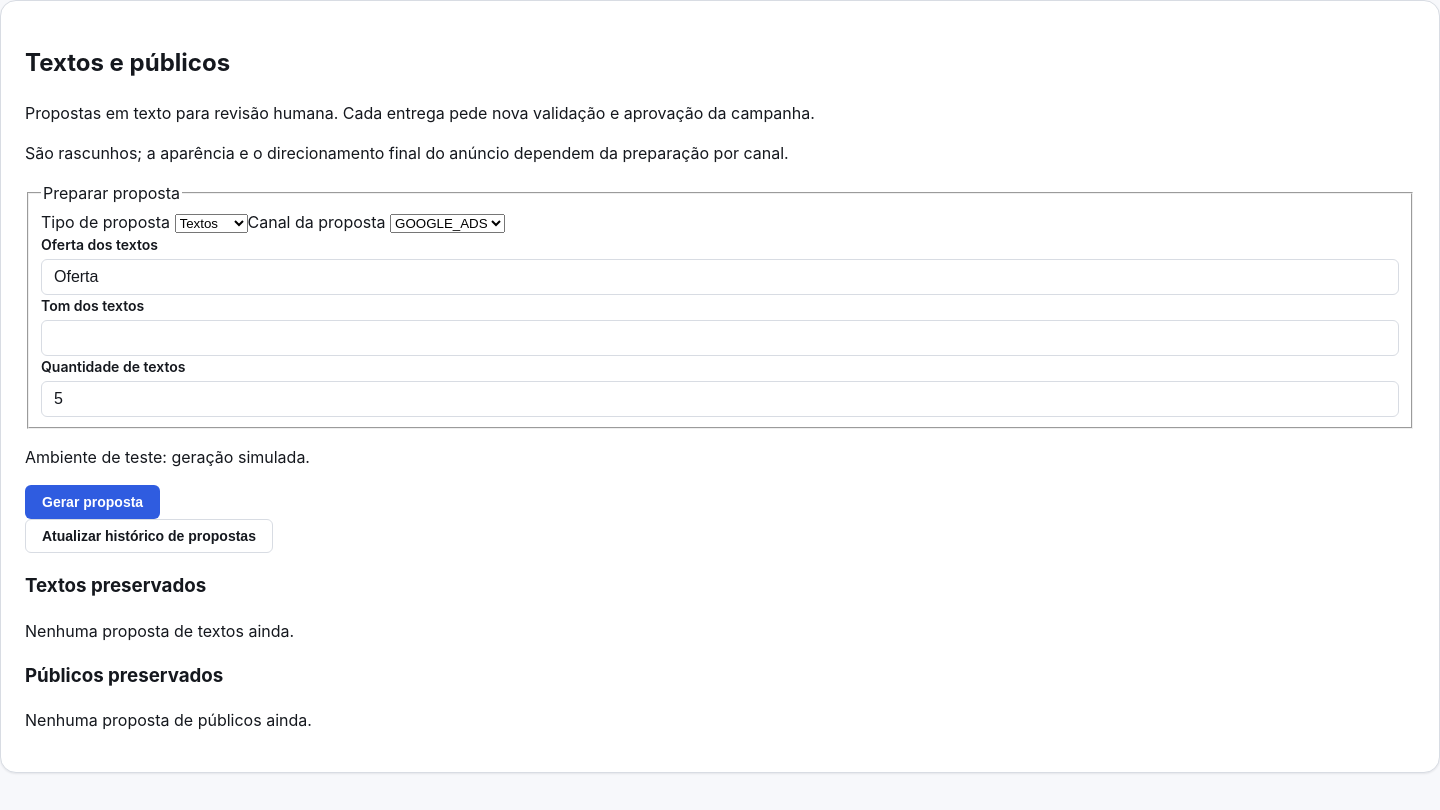
CreativeProposalsPanel › a confirmed write stays confirmed when refreshing fails
expect the text "Ambiente de teste: geração simulada." is shown: met, box [25, 447, 310, 467]
Type "direto" into the field labelled "Tom dos textos" at point(720, 338), box [41, 320, 1399, 356]
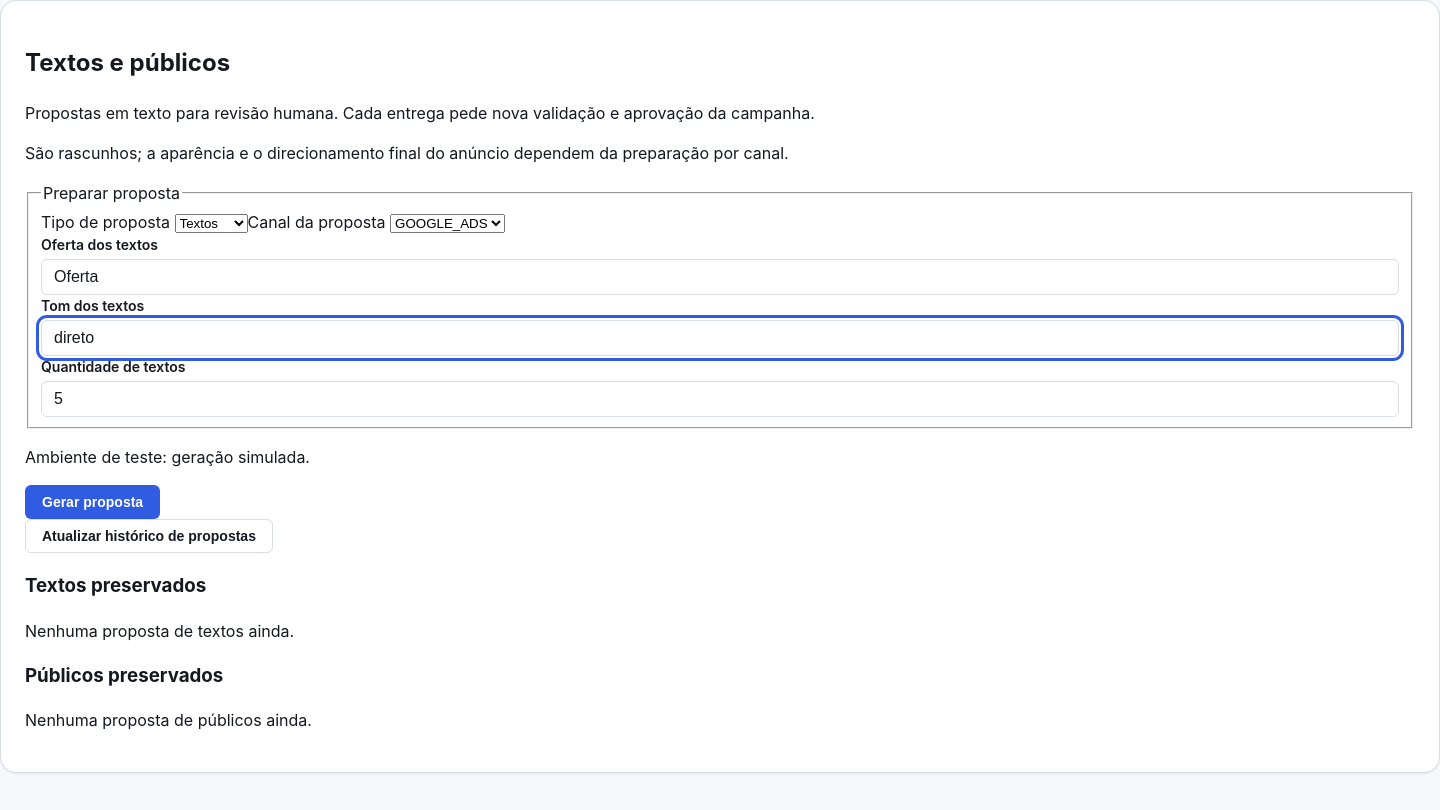
Click the button "Gerar proposta" at point(93, 502), box [25, 485, 160, 519]
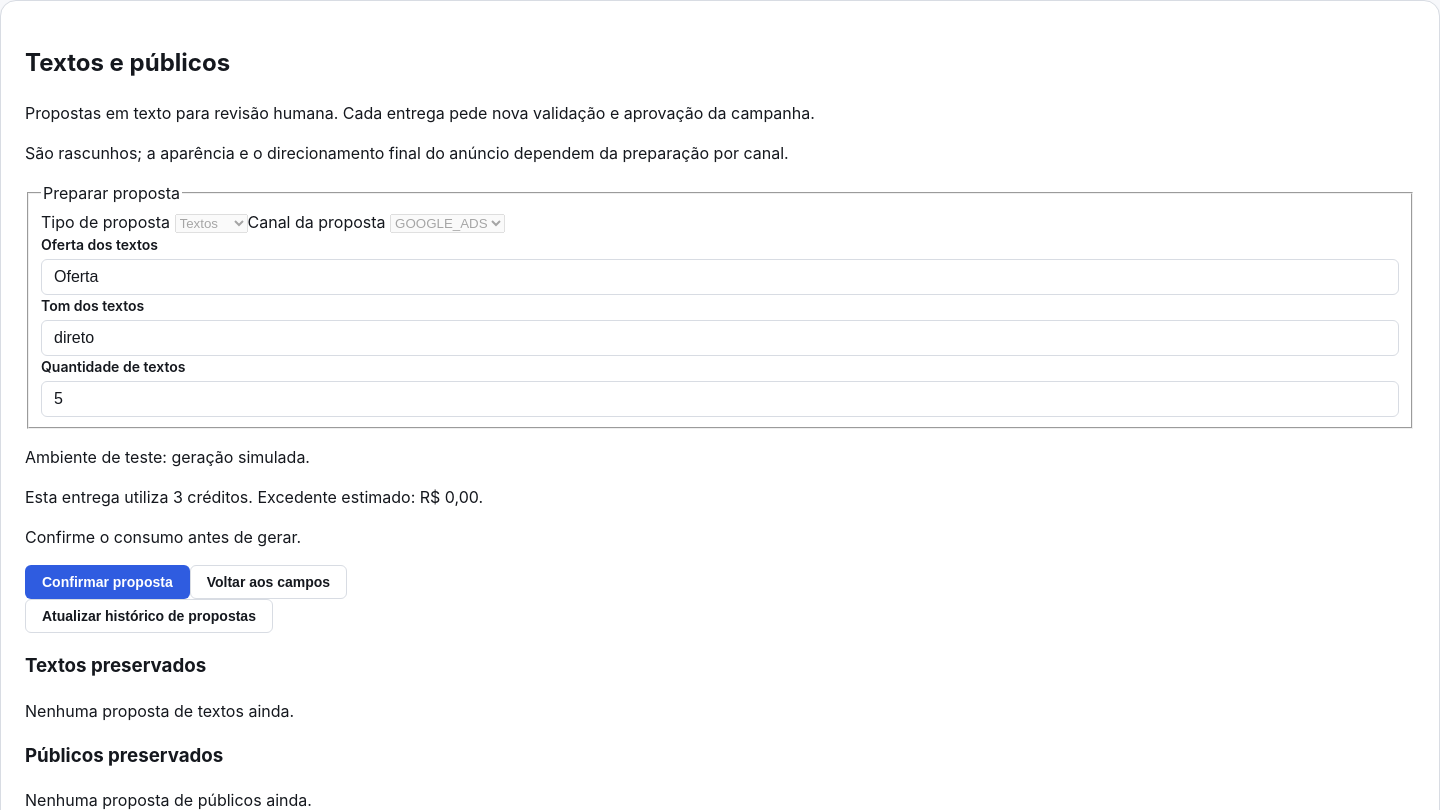
Click the button "Confirmar proposta" at point(107, 582), box [25, 565, 190, 599]
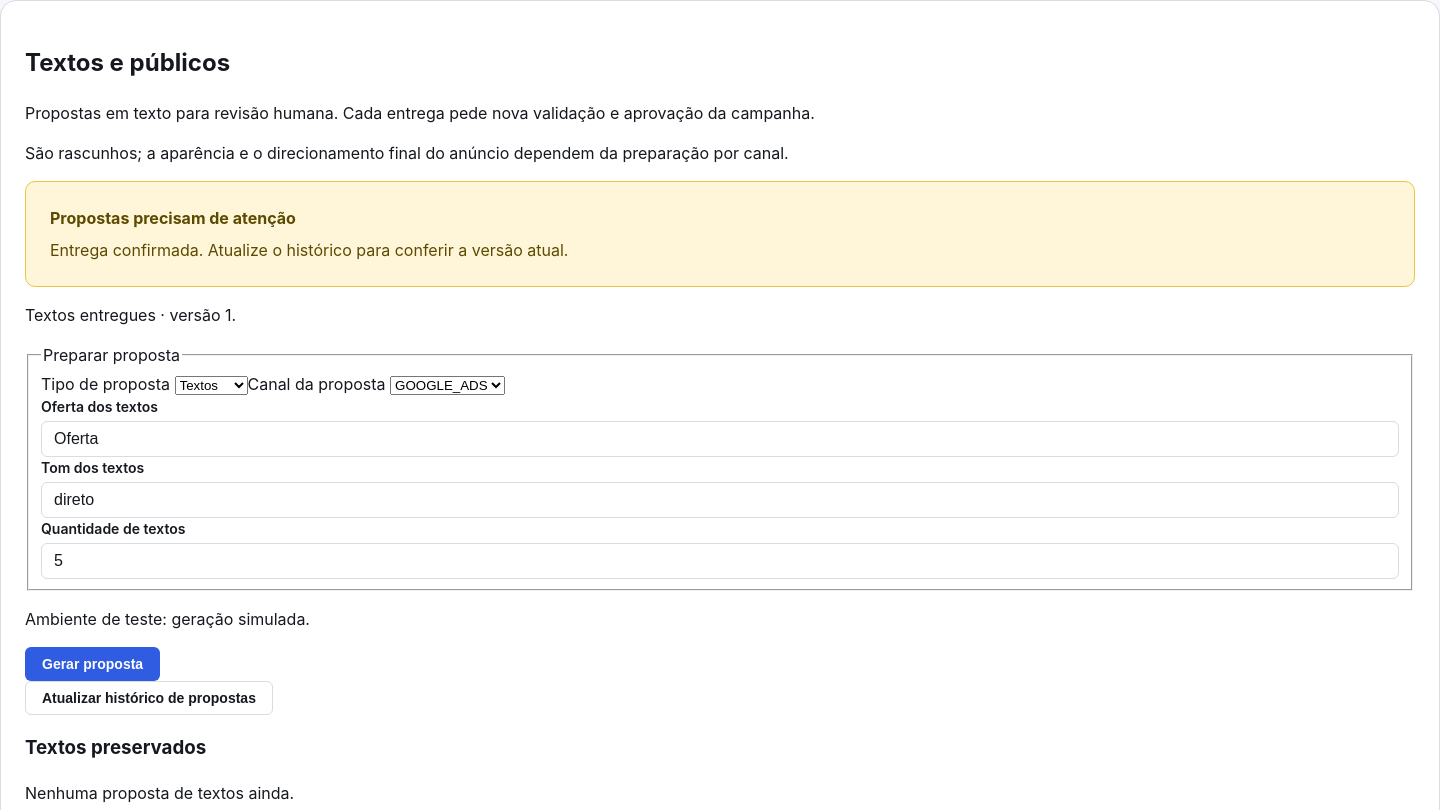
expect the field labelled "Oferta dos textos" is enabled: met, box [41, 421, 1399, 457]
expect the text "Entrega confirmada. Atualize" is shown: met, box [50, 240, 568, 260]
